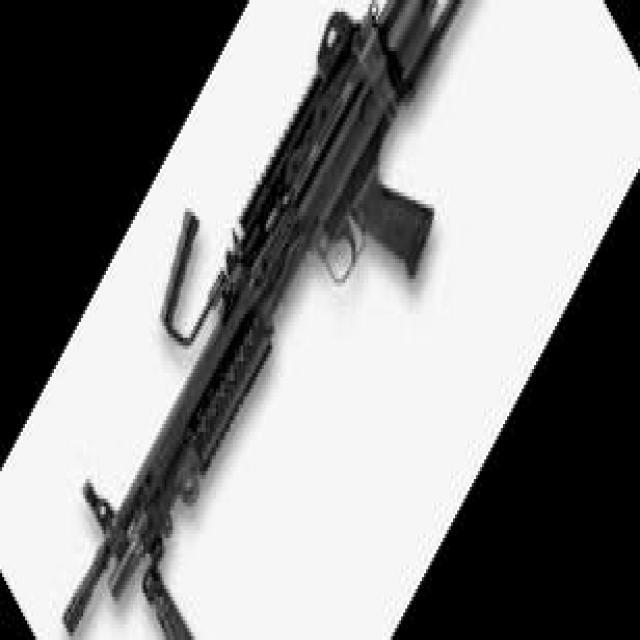weapon: (59, 0, 464, 640)
